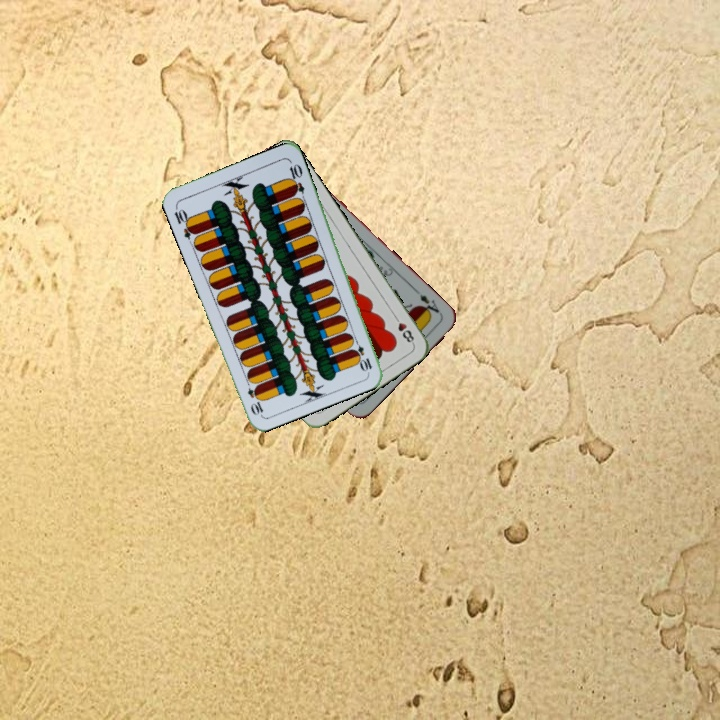E10: (170, 202, 198, 241), (349, 334, 375, 373)
EA: (411, 286, 444, 319)
H8: (389, 310, 417, 347)
